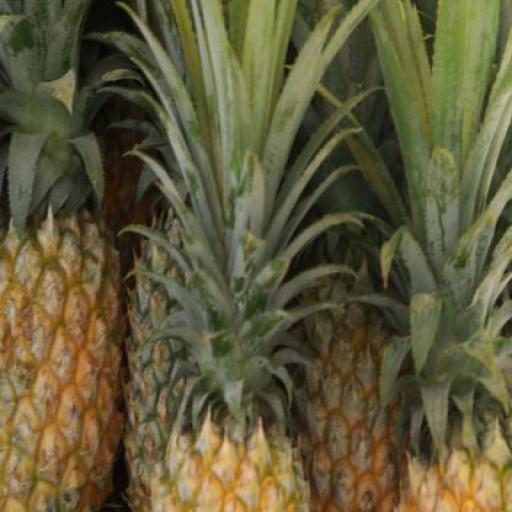------------------------------: (0, 219, 124, 510)
Pineapple - v8 v1: (154, 405, 311, 512)
